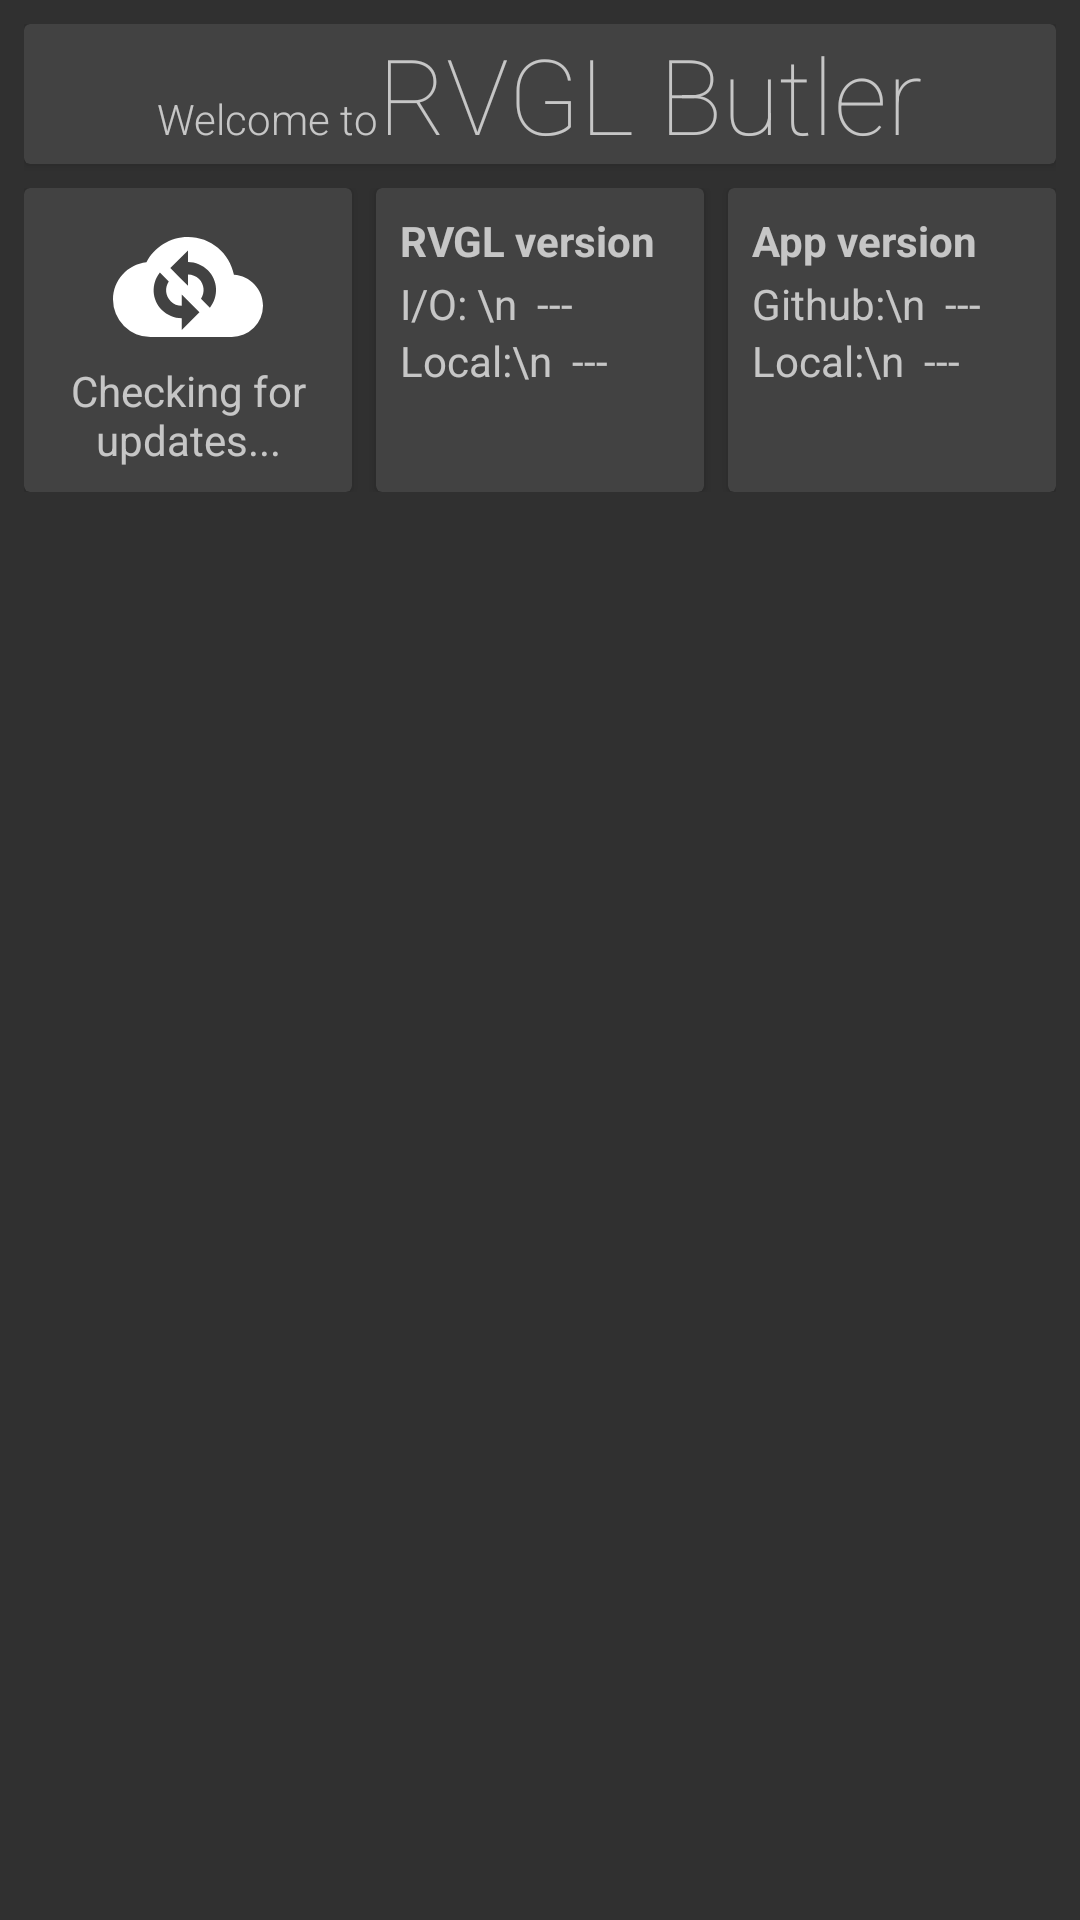

Screen size 1080x1920. Icon name, then its box in pixels as (x1, y1, x2, y2):
cloud sync: (113, 237, 263, 337)
